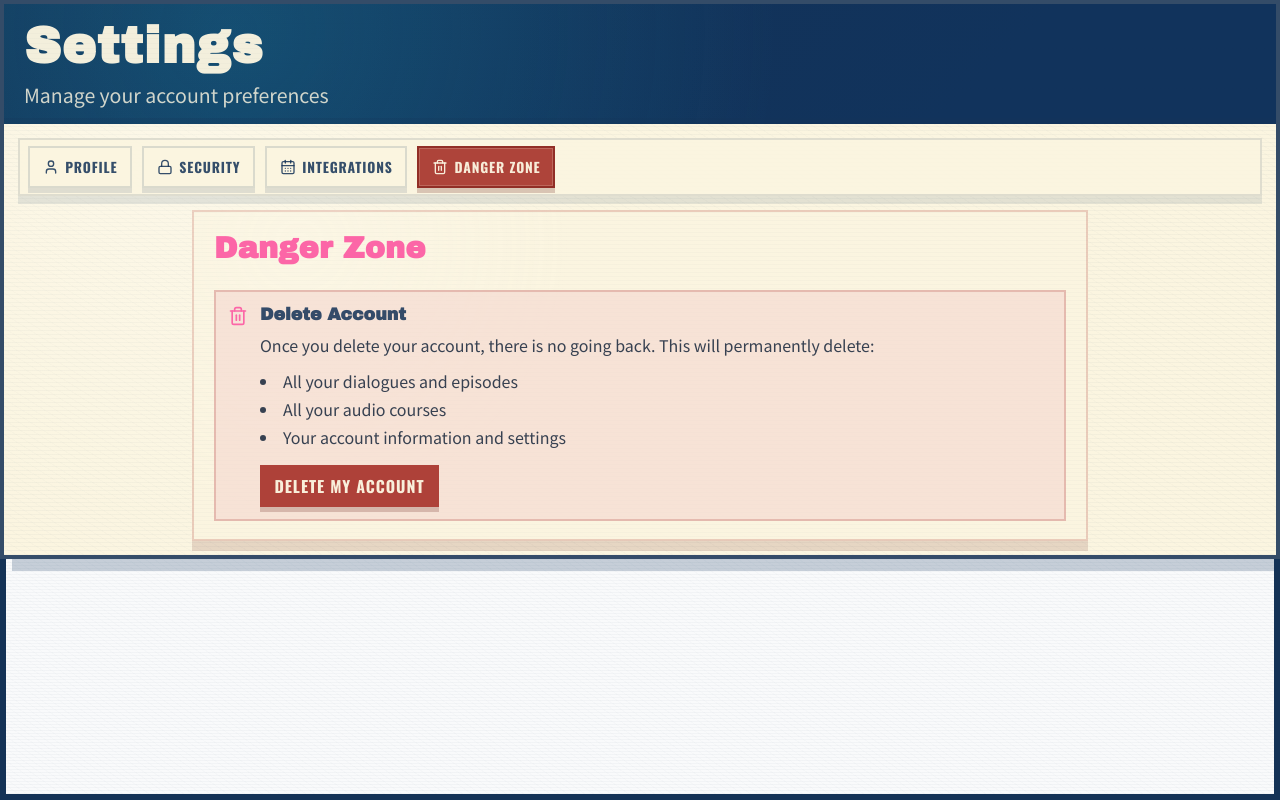
it: SettingsPage › Danger Zone Tab › should keep the modal open and show password errors from the API
Click the button with test id "settings-button-delete-account".
click(349, 486)  # box x1=260 y1=465 x2=439 y2=507
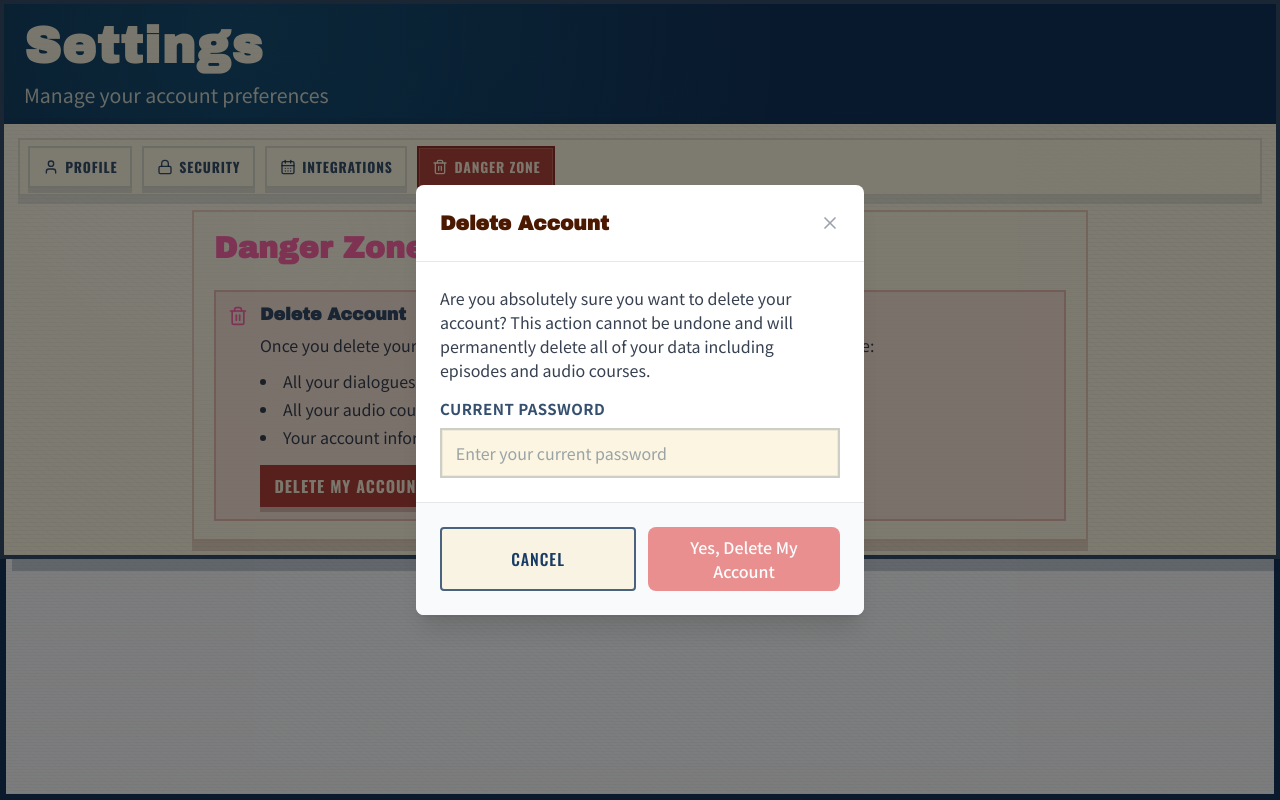
Type "wrong-password" into the password field labelled "Current password".
click(640, 453); type("wrong-password")  # box x1=440 y1=428 x2=840 y2=478
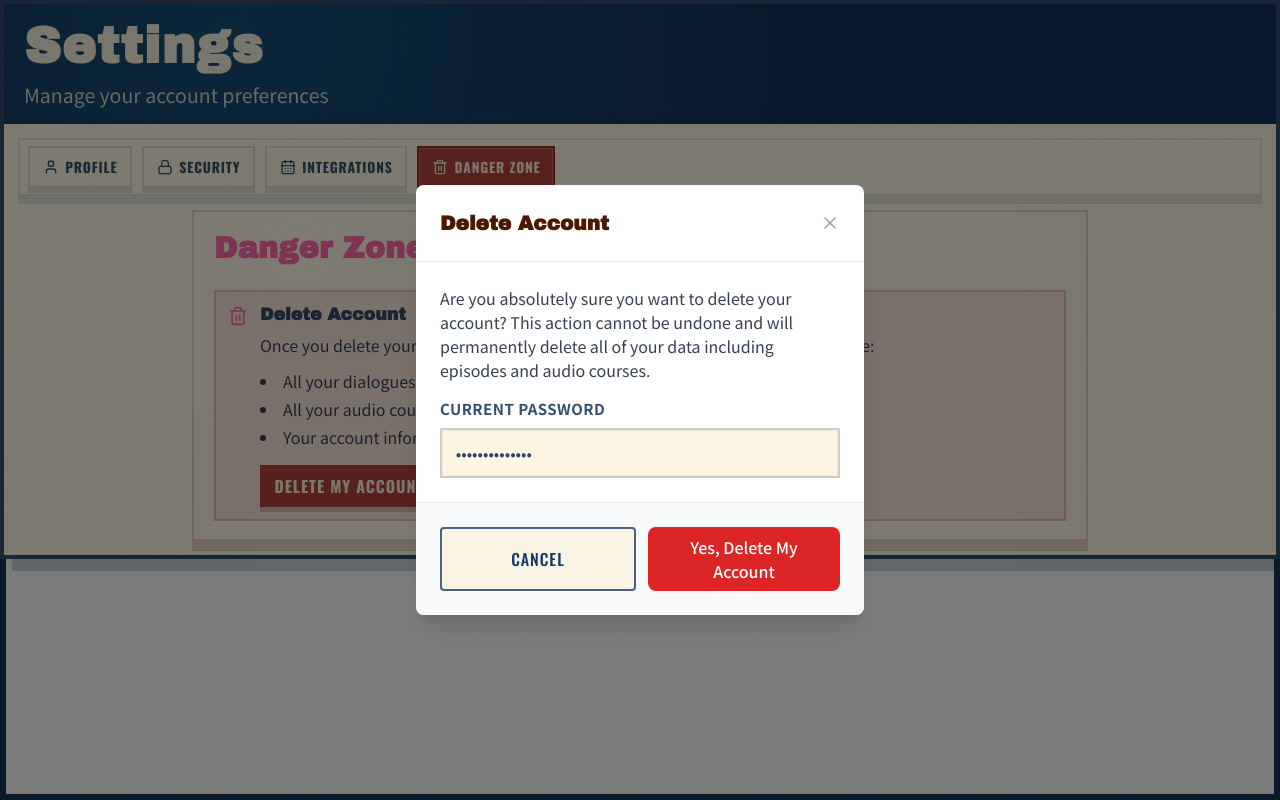
Click the button with test id "modal-button-confirm".
click(744, 559)  # box x1=648 y1=527 x2=840 y2=591
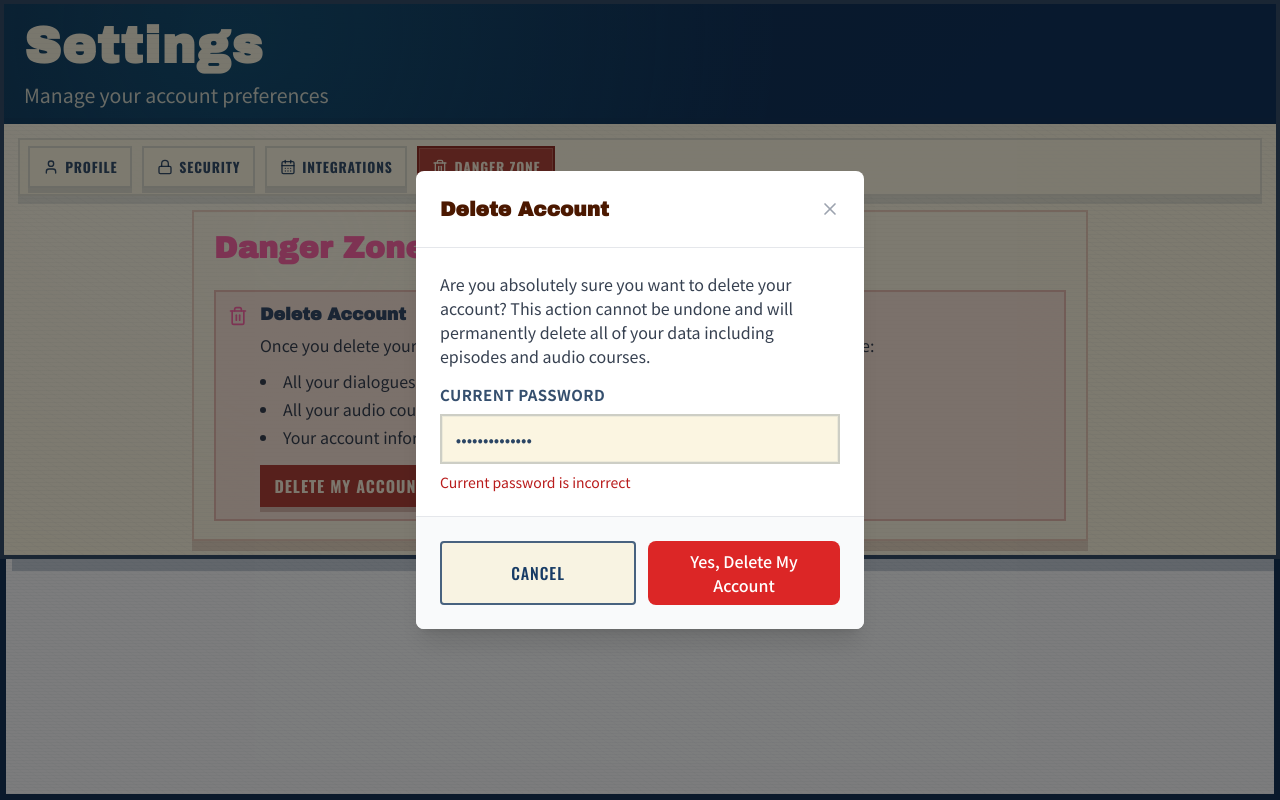
Result: the dialog is shown at x1=416 y1=171 x2=864 y2=629
Result: the message reads "Current password is incorrect" at x1=440 y1=472 x2=630 y2=492
